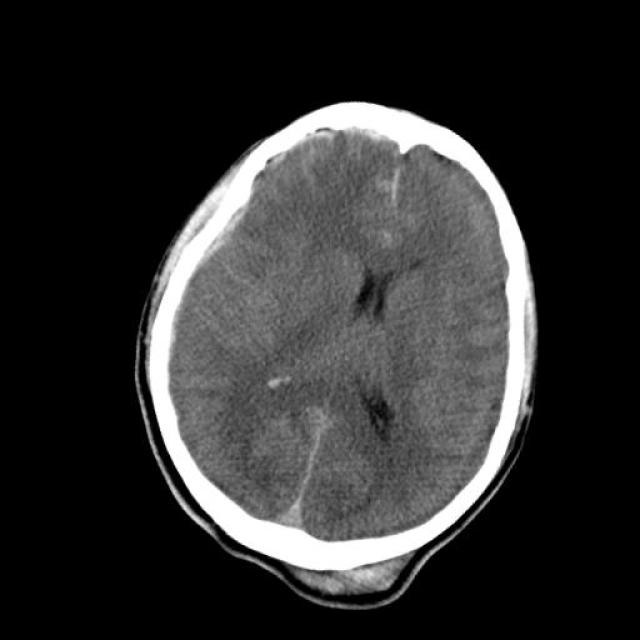Subdural: (170, 68, 390, 306)
